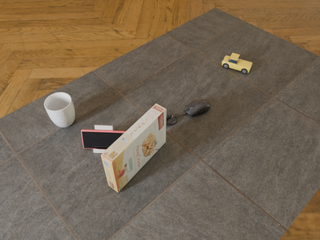box: (101, 104, 166, 193)
cup: (44, 92, 75, 127)
mouse: (184, 99, 210, 117)
phone: (81, 130, 126, 149)
toy_car: (222, 53, 252, 74)
